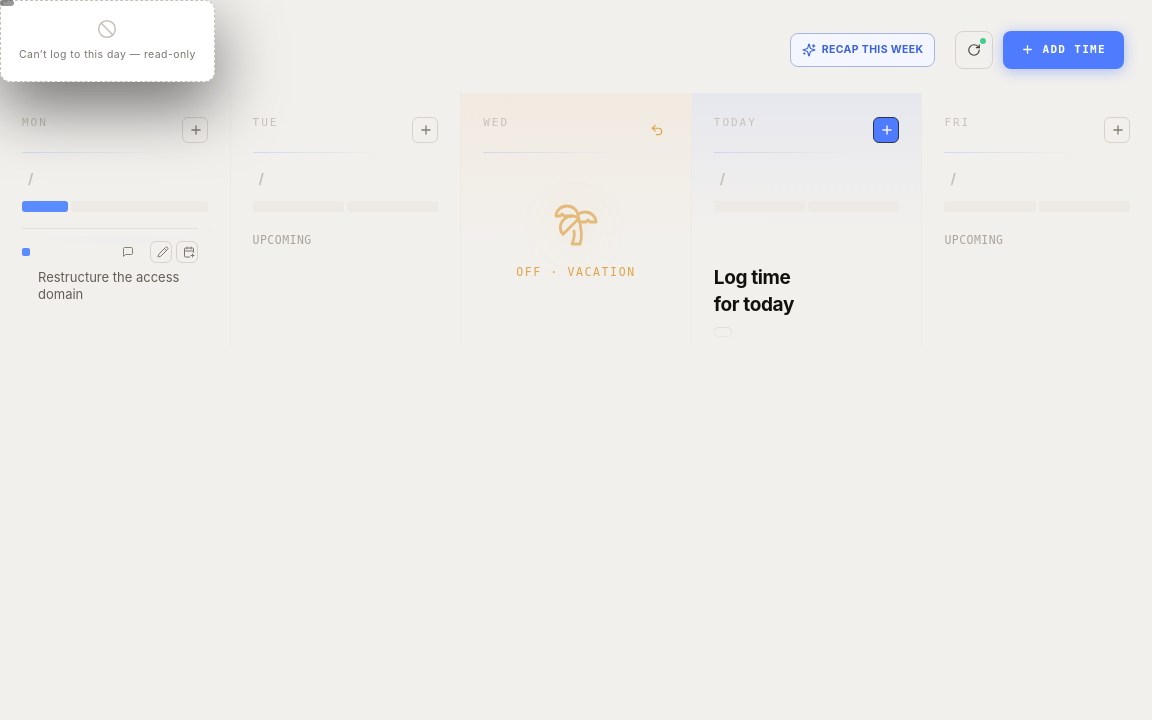
Test: WeekView copy to another day › opens a right-click menu on a worklog row that leads to the day picker
Step 1. Right-click the element with class "day-log" → [110, 271], box 22,228 -> 198,315
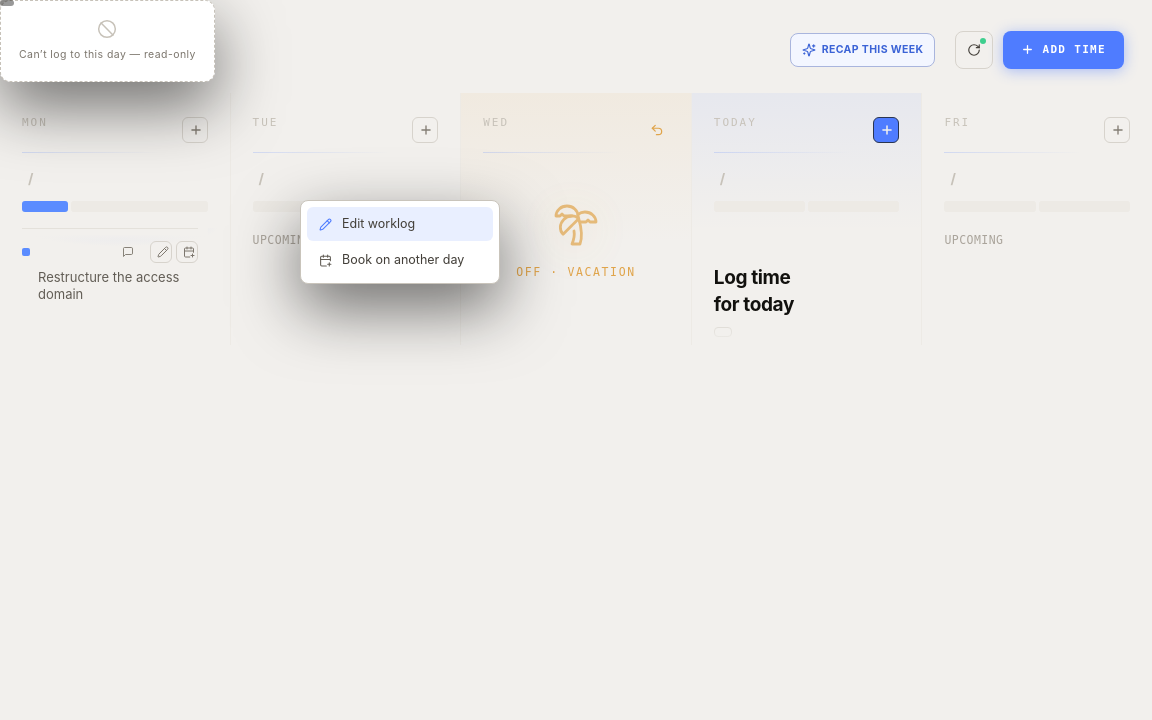
Check: the menu named "Actions for YLOG-397" is shown, box 300,200 -> 500,284
Step 2. Click the menu item "Book on another day" → [400, 260], box 307,243 -> 493,277
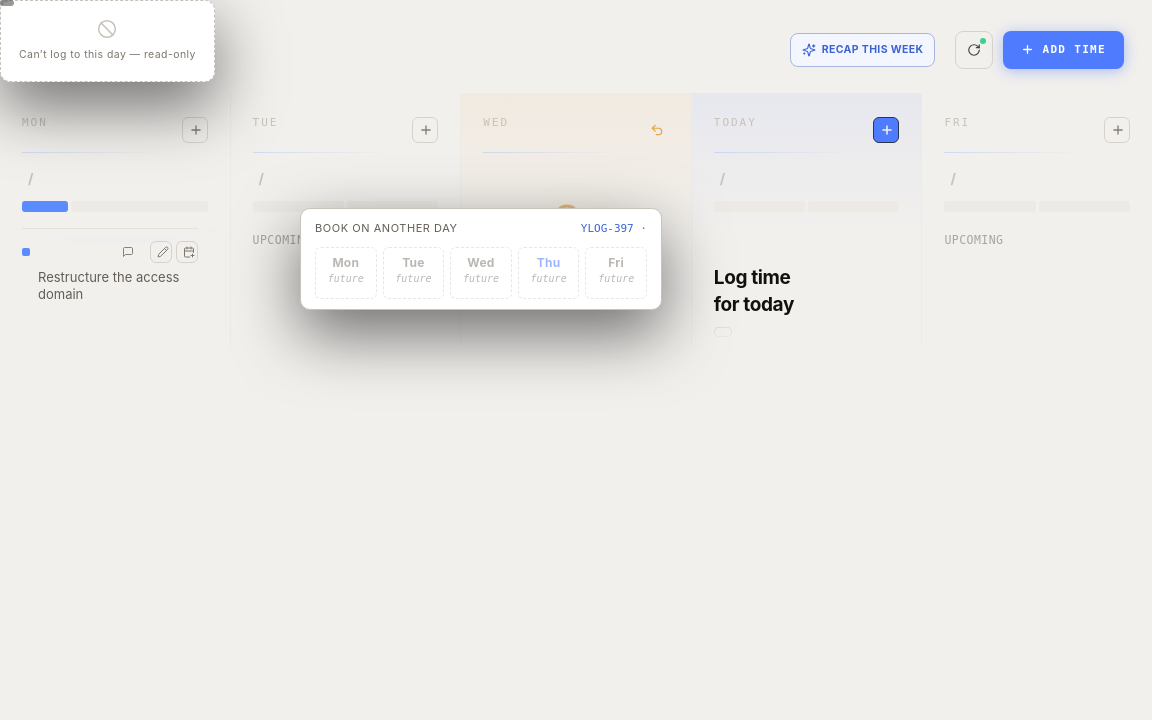
Check: the menu is gone
Check: the dialog named "Book YLOG-397 on another day" is shown, box 300,208 -> 662,310
